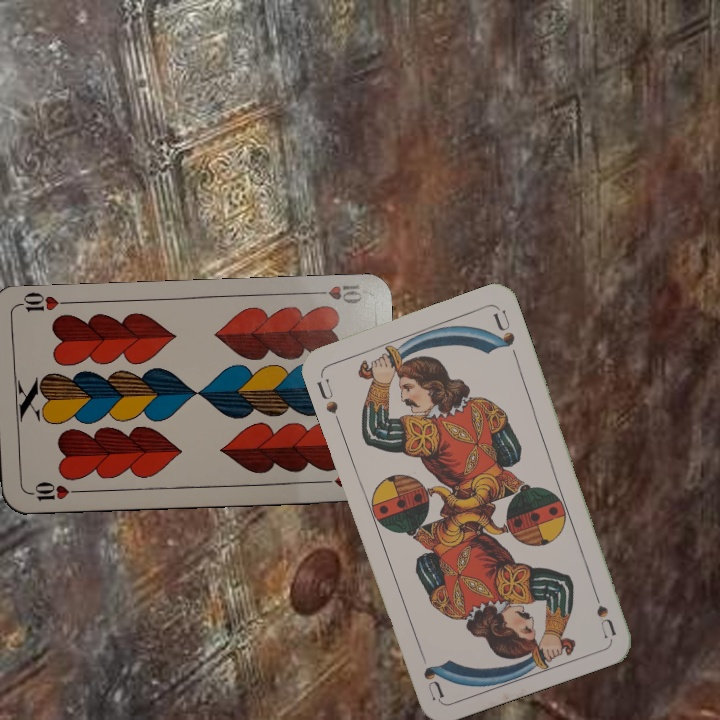H10: (23, 478, 82, 504), (306, 281, 364, 307)
SU: (587, 581, 618, 640), (312, 374, 343, 427)
